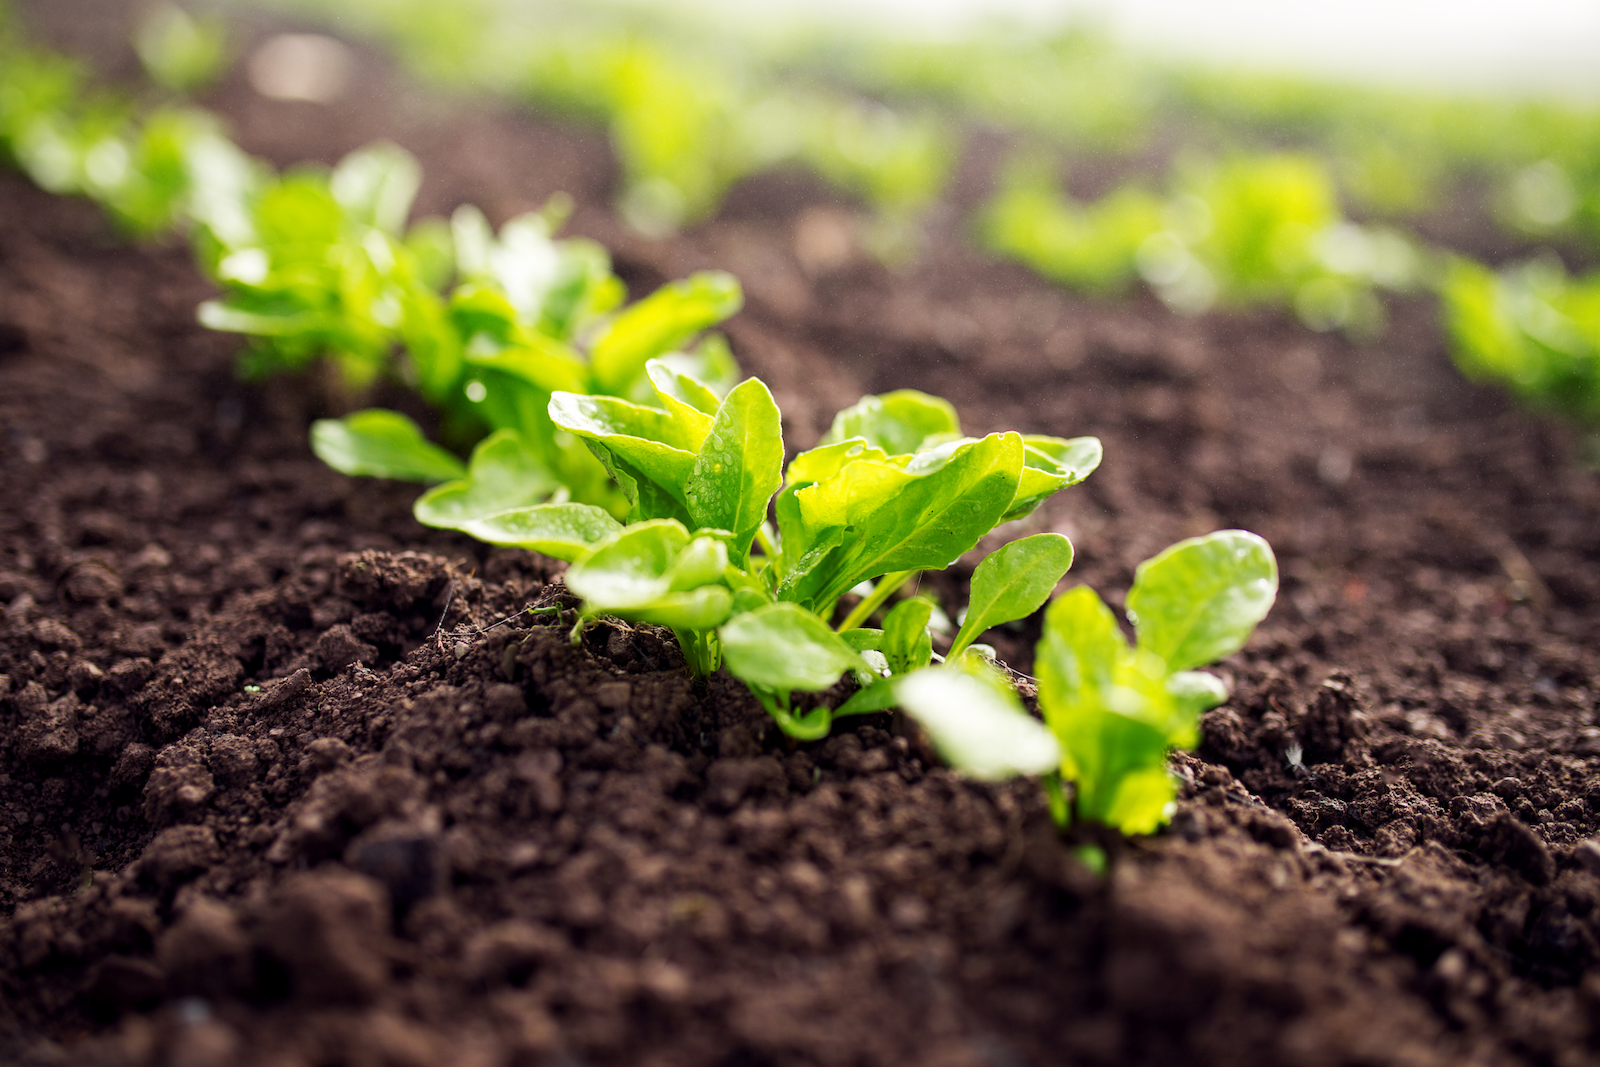lettuce: (160, 148, 1340, 891)
